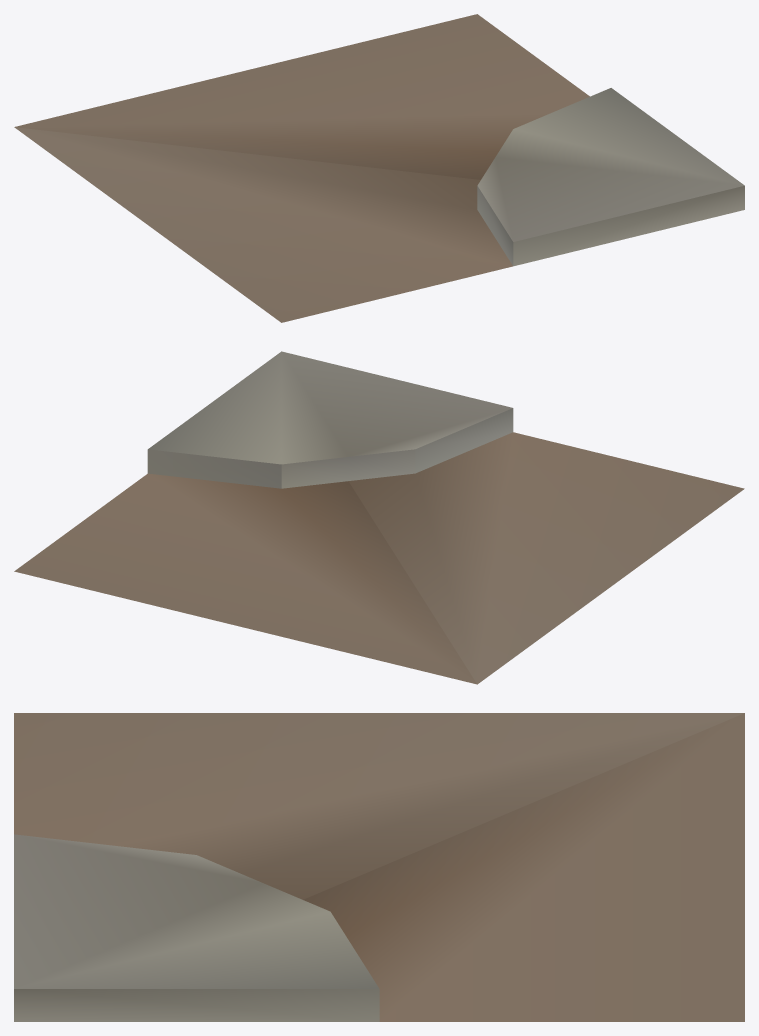
The model's file is road-dirt-corner-outer.glb.
3 views of the same model, one above another, from view 1: azimuth 30°, elevation 25°; view 2: azimuth 150°, elevation 25°; view 3: azimuth 270°, elevation 25° (orthographic). The views are drawn at different scales.
Visible parts, largest first — view 1: road-dirt-corner-outer; view 2: road-dirt-corner-outer; view 3: road-dirt-corner-outer.
Boxes of the visible parts, left/top/right/bottom form: road-dirt-corner-outer: left=14, top=14, right=744, bottom=322; road-dirt-corner-outer: left=14, top=351, right=744, bottom=684; road-dirt-corner-outer: left=14, top=713, right=744, bottom=1021.
Bounding box in the file's own units: 1 × 0.05 × 1.
